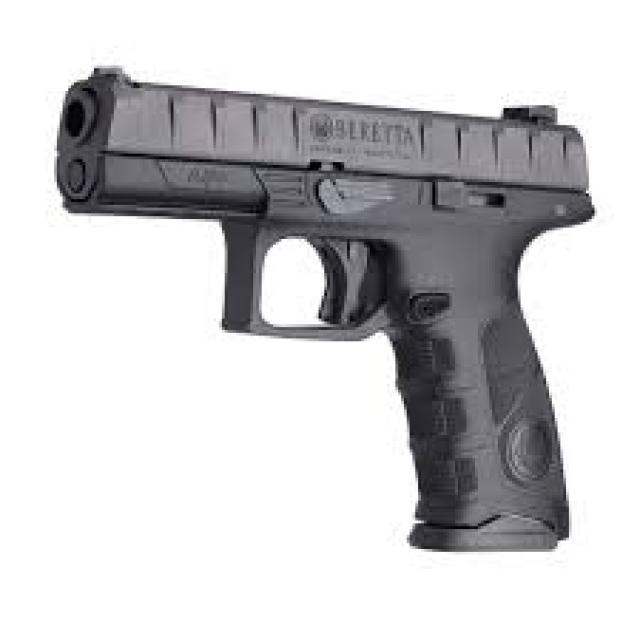pistol: (54, 60, 597, 564)
